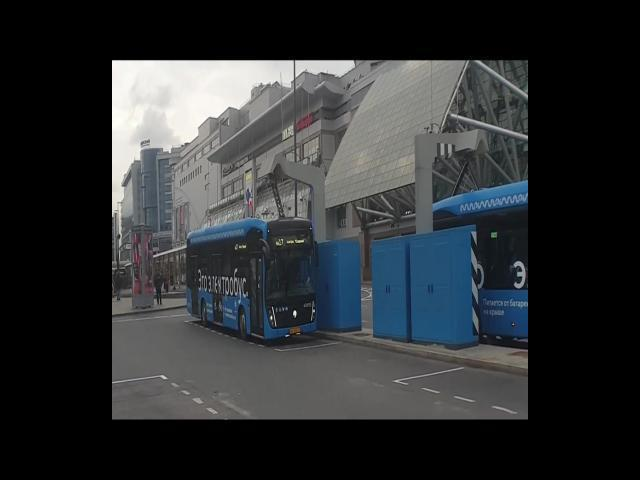bus: (186, 219, 318, 342)
